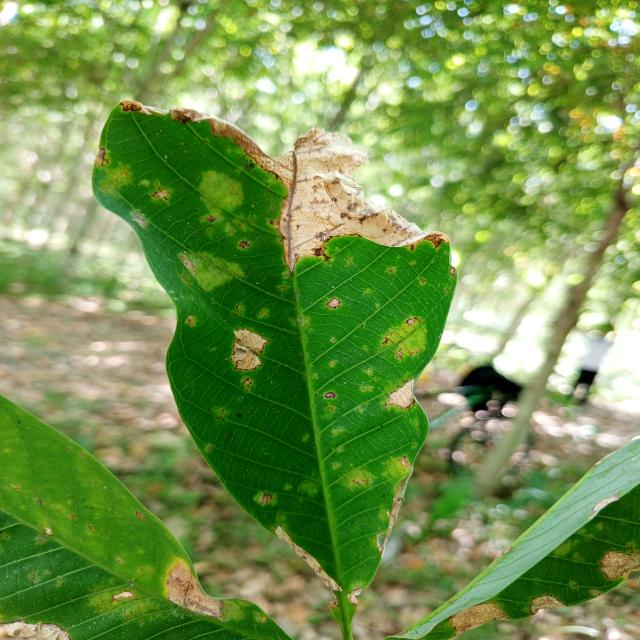Colletotrichum: (366, 370, 371, 373)
Leaf-Blight: (170, 105, 452, 272), (271, 526, 341, 591), (164, 562, 220, 615), (448, 601, 508, 634), (380, 480, 406, 549), (230, 328, 268, 370), (598, 548, 640, 580), (384, 379, 416, 408), (528, 594, 566, 614)
